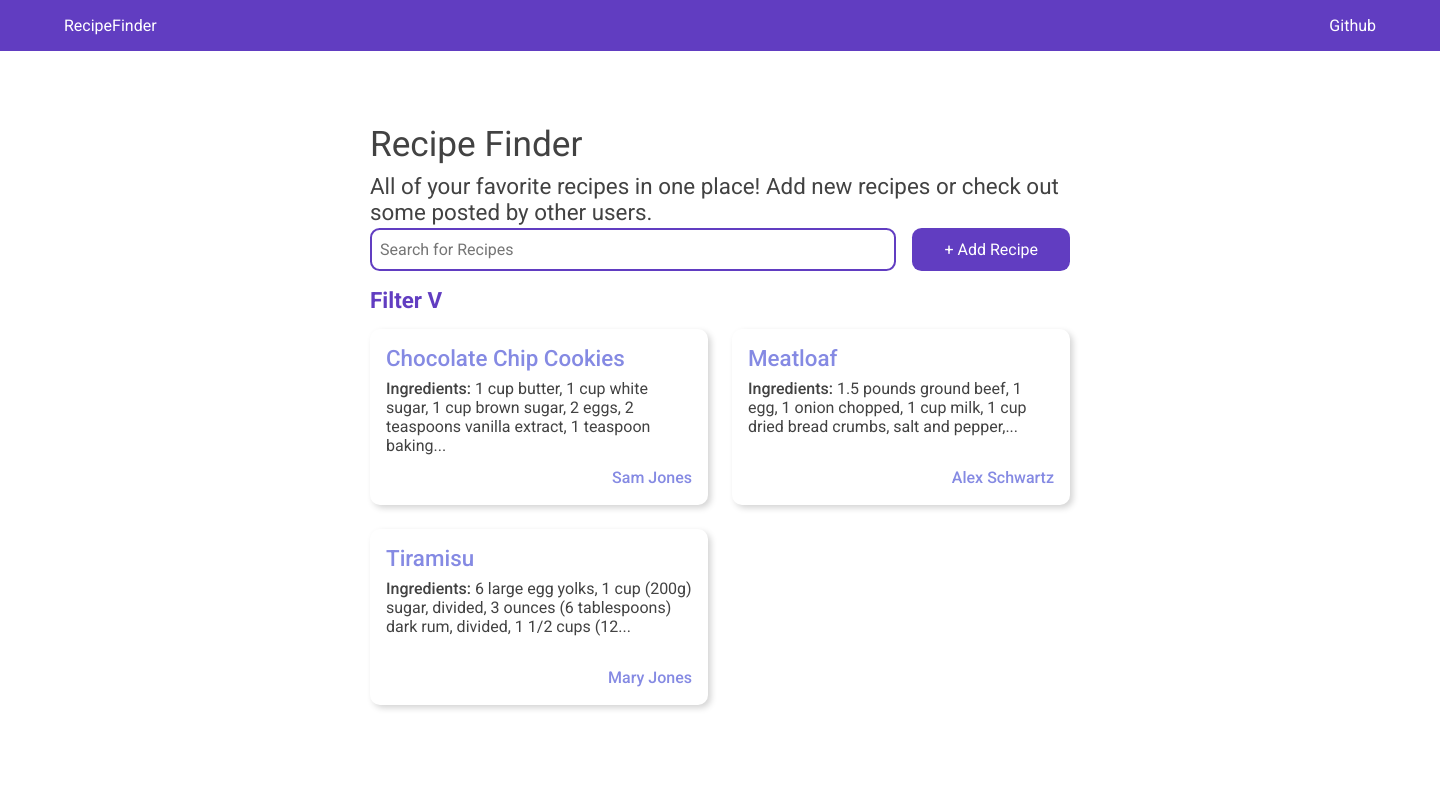
Test case: search › filter buttons work correctly
The image size is (1440, 794).
What coordinates should you click on to do the following:
click the button "Filter V"
I would click on:
 (410, 300)
Its box is left=370, top=287, right=450, bottom=313.
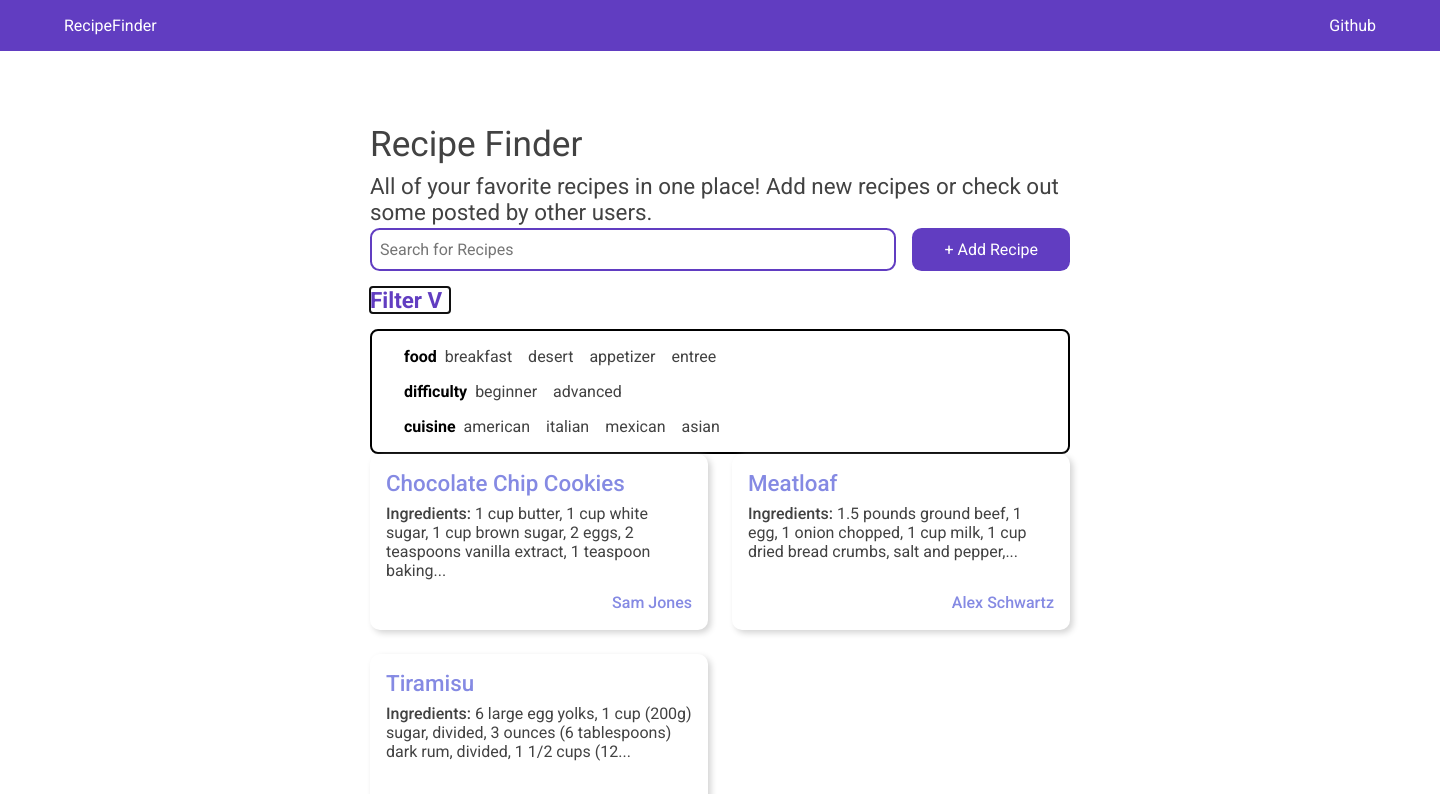
What coordinates should you click on to do the following:
click the button "entree"
I would click on:
 (694, 357)
Its box is left=671, top=347, right=716, bottom=366.
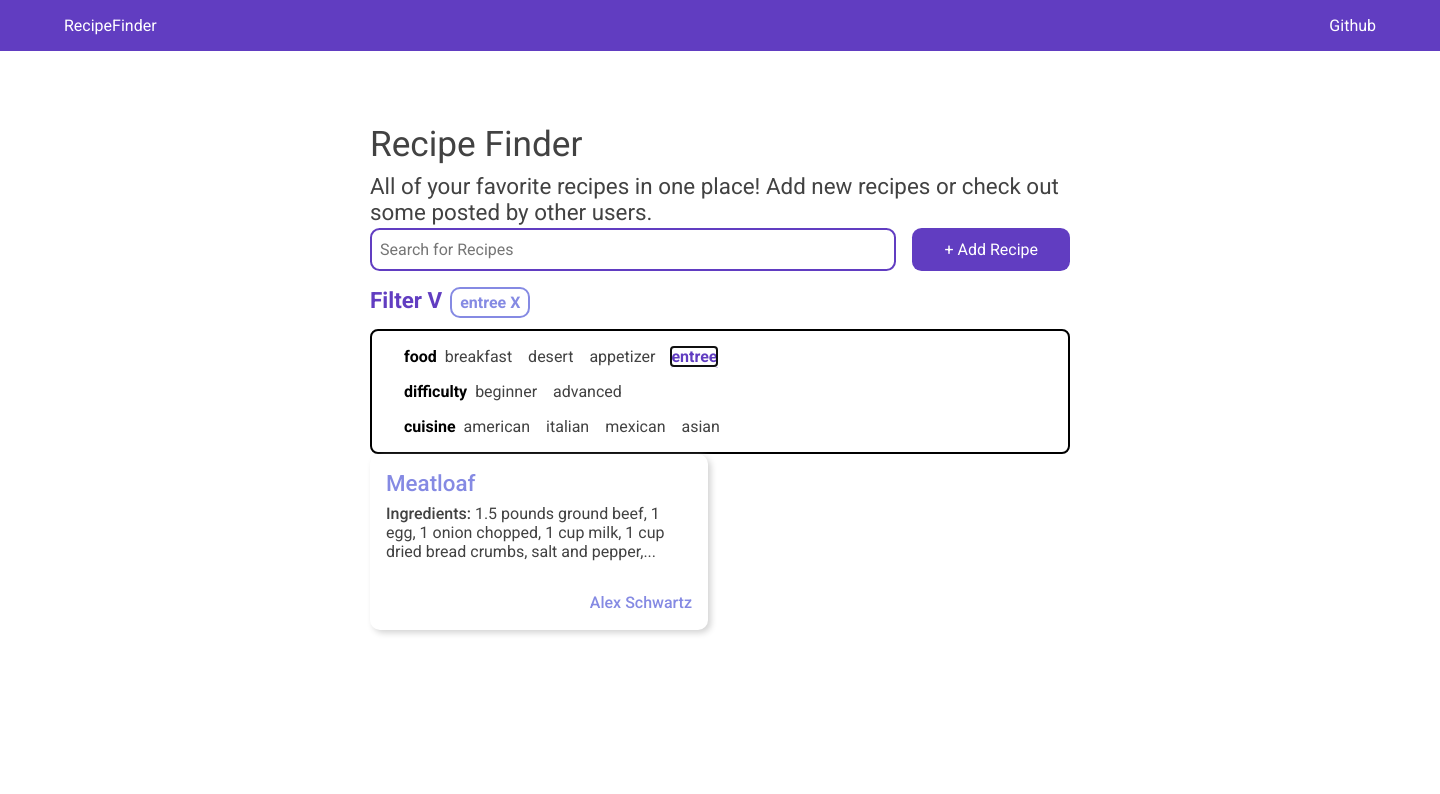
Expected: the heading "Meatloaf" is shown, left=386, top=470, right=476, bottom=496
Now the heading "Cookie" is gone
What coordinates should you click on to do the following:
click the button "Filter V"
I would click on:
 (410, 300)
Its box is left=370, top=287, right=450, bottom=313.
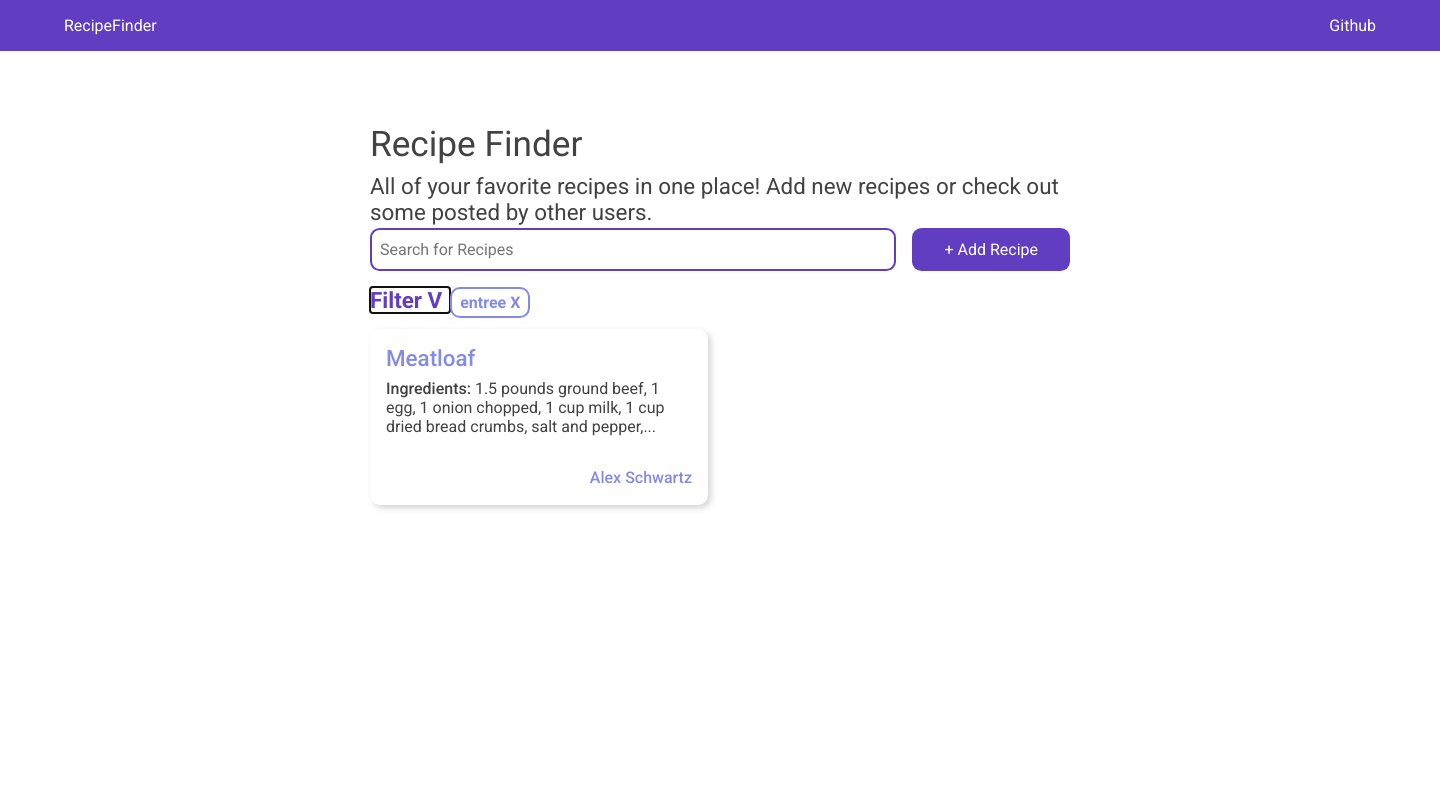
What coordinates should you click on to do the following:
click the button "entree X"
I would click on:
 (490, 303)
Its box is left=450, top=287, right=530, bottom=318.
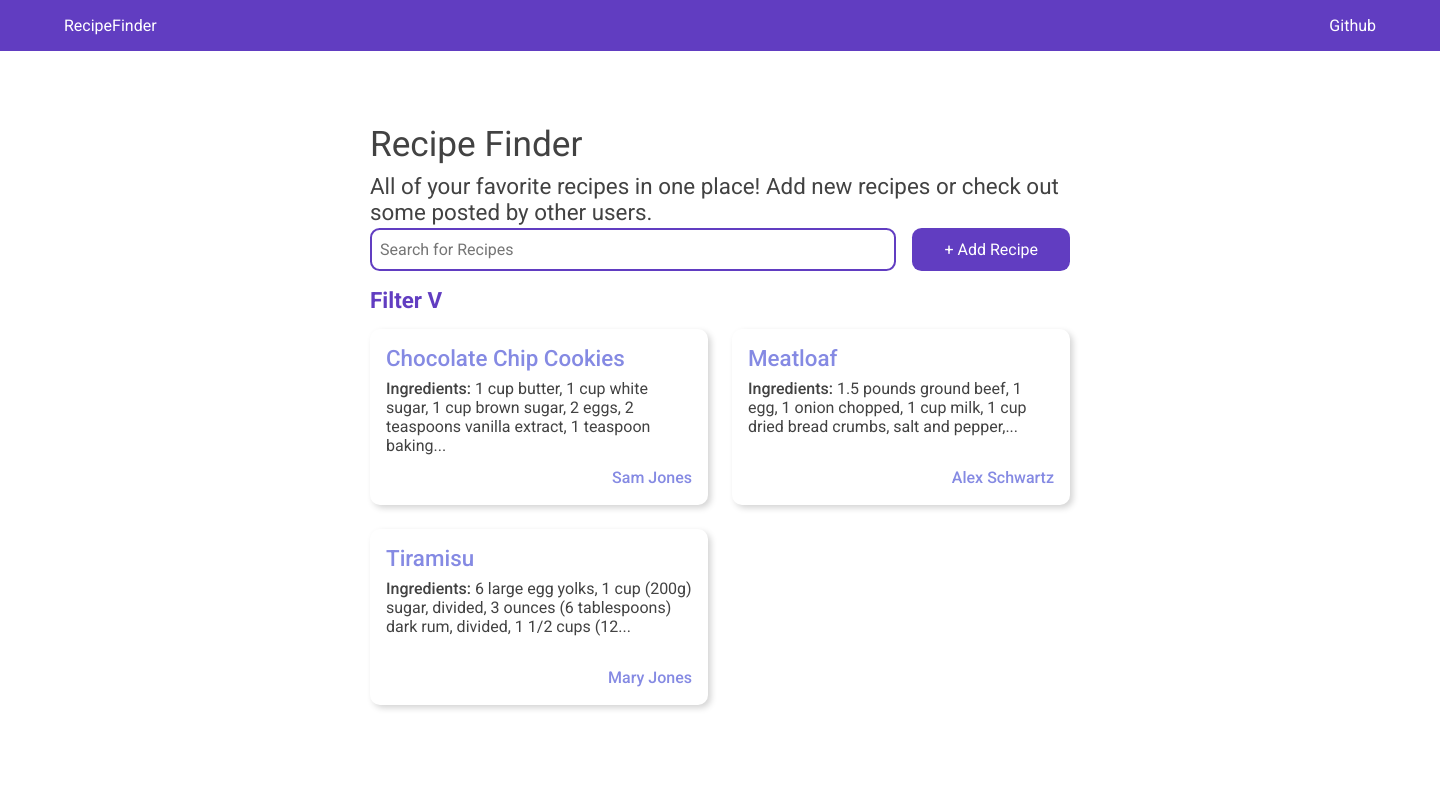
Now the button "entree" is gone
